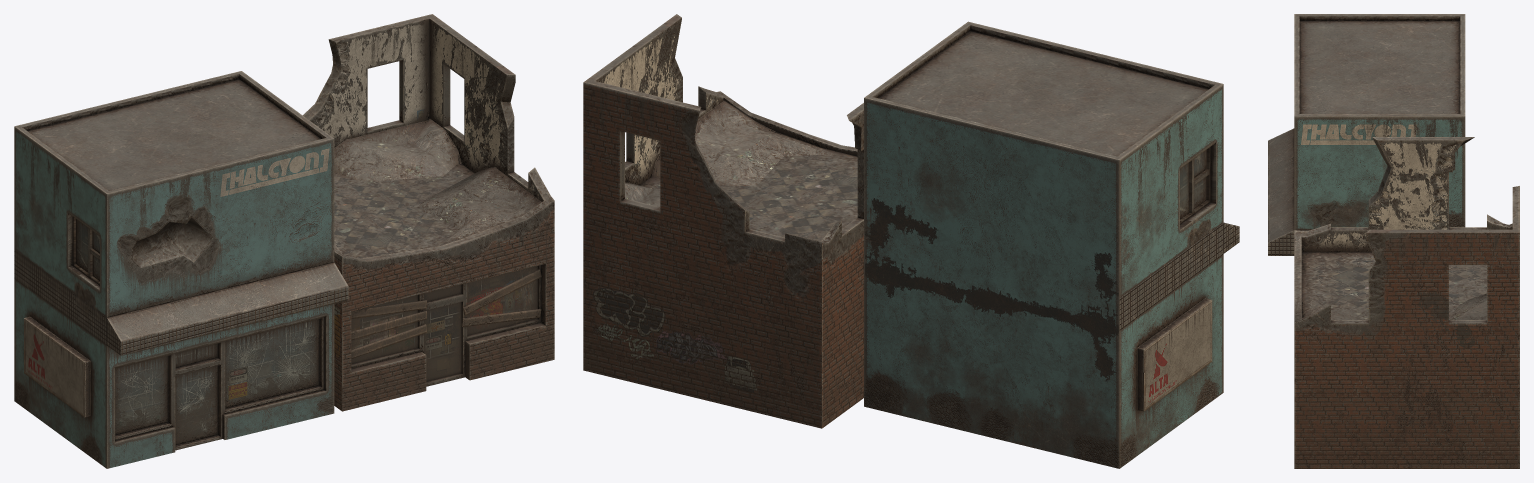
Rendered from wasteland_stores.glb.
The picture shows the model from 3 angles, left to right: view 1: azimuth 30°, elevation 25°; view 2: azimuth 150°, elevation 25°; view 3: azimuth 270°, elevation 25°; orthographic projection. The views are drawn at different scales.
Parts seen in each view (by area): view 1: Box002, Box001; view 2: Box002, Box001; view 3: Box001, Box002.
Boxes of the visible parts, x1,y1,x2,y2 form: Box002: (14,71,348,468); Box001: (303,14,554,411); Box002: (864,21,1239,468); Box001: (583,14,863,428); Box001: (1294,137,1519,468); Box002: (1268,14,1465,255).
Bounding box in the file's own units: 7.97 × 4.61 × 4.15.
2 materials, 2 textured.
